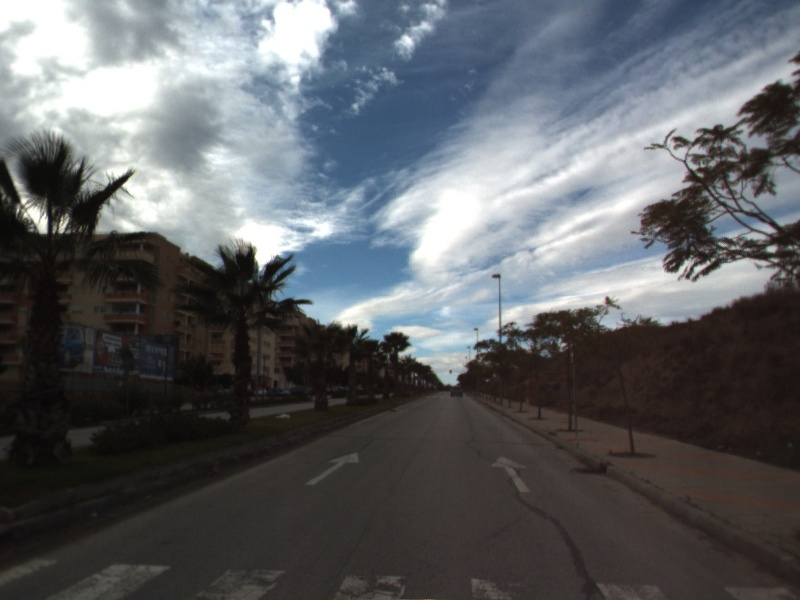STRAIGHT: (303, 450, 361, 487), (489, 453, 532, 494)
